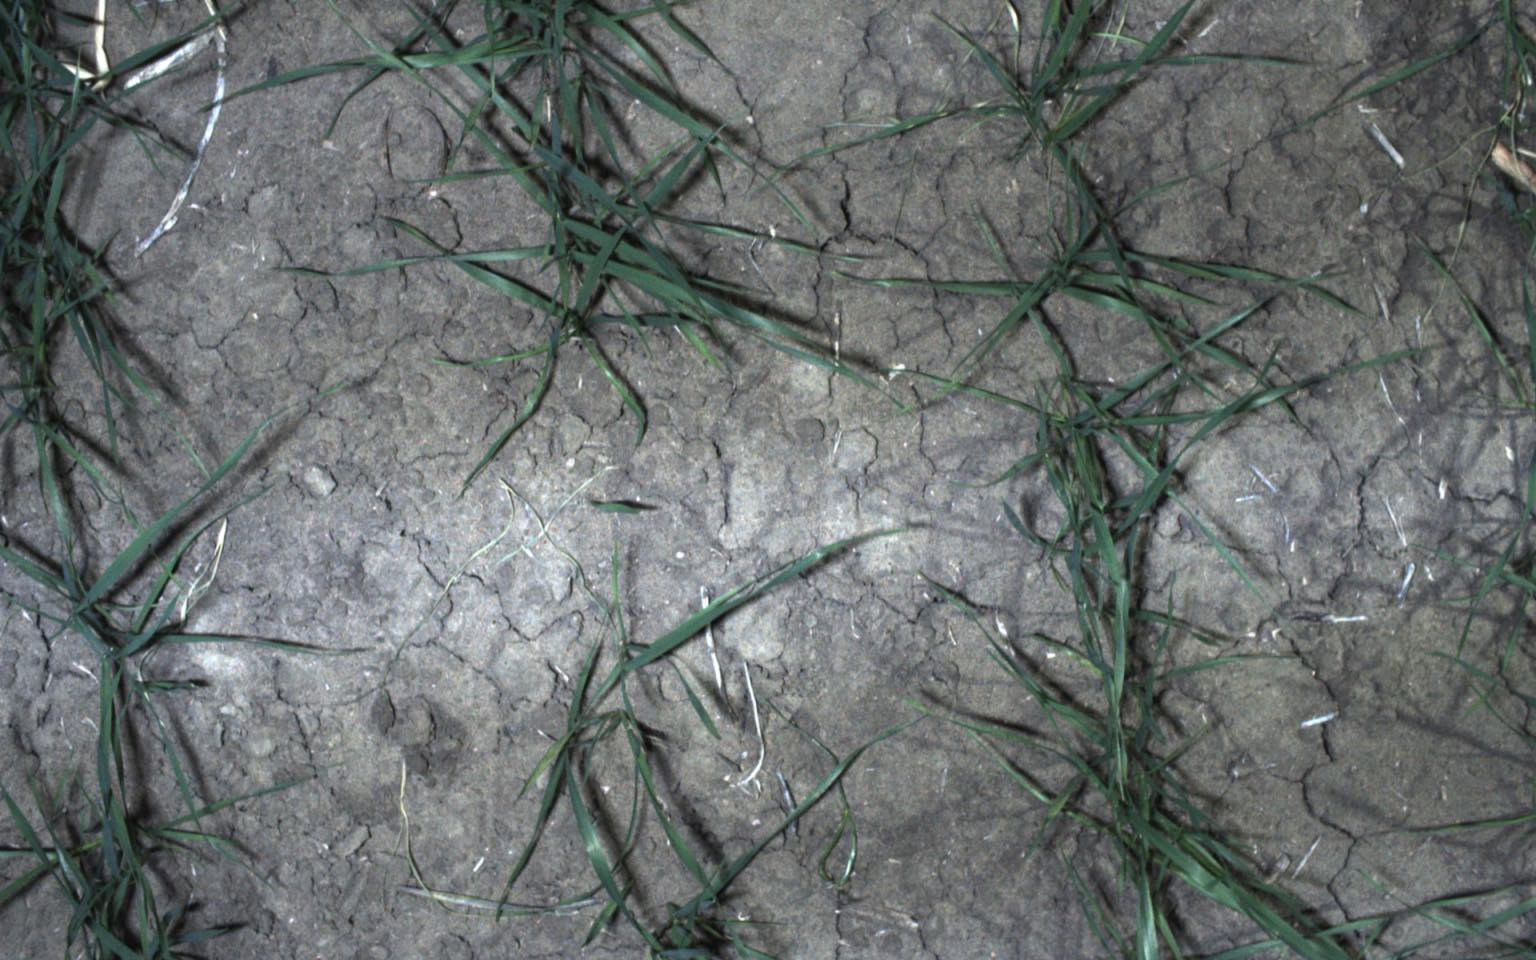weed: UNSPECIFIED: (817, 835, 858, 889)
weed: rapistrum rugosum: (1511, 208, 1530, 238), (1163, 314, 1190, 328)
